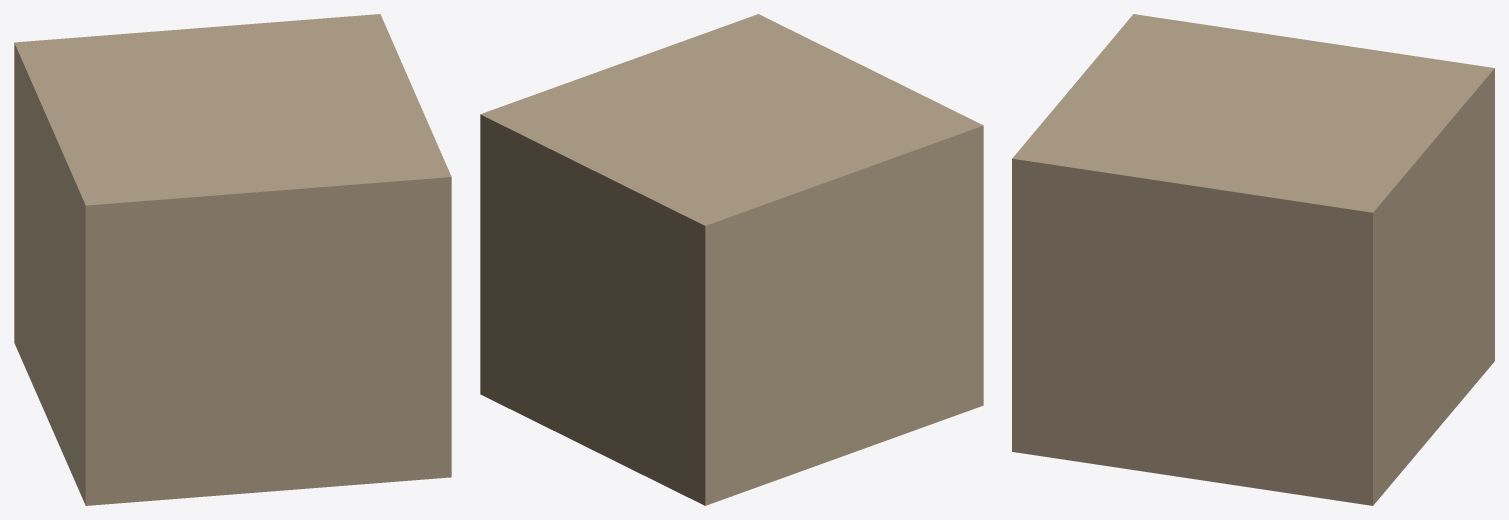
File: bld_163484313.dae
The picture shows the model from 3 angles, left to right: view 1: azimuth 30°, elevation 25°; view 2: azimuth 150°, elevation 25°; view 3: azimuth 270°, elevation 25°; orthographic projection. The views are drawn at different scales.
Visible parts, largest first — view 1: bld_163484313; view 2: bld_163484313; view 3: bld_163484313.
Boxes of the visible parts, x1,y1,x2,y2 form: bld_163484313: [14, 14, 451, 505]; bld_163484313: [480, 14, 983, 505]; bld_163484313: [1012, 14, 1494, 505].
Size of the model in its own units: 11.63 by 11.94 by 8.
